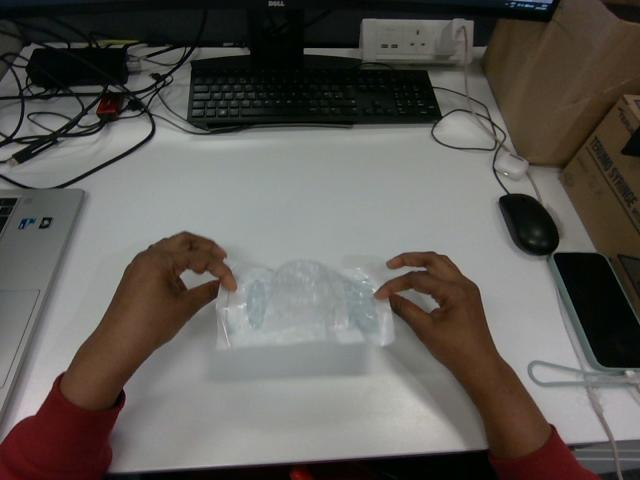gallipot: (216, 260, 393, 347)
